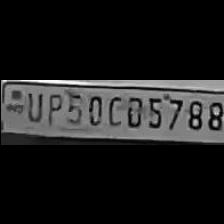0: (84, 90, 104, 126)
5: (62, 89, 82, 126), (144, 92, 162, 128)
7: (162, 93, 182, 129)
8: (184, 96, 204, 130), (204, 96, 222, 130)
C: (104, 90, 122, 126)
D: (122, 92, 142, 126)
P: (42, 89, 62, 125)
U: (22, 87, 42, 121)
